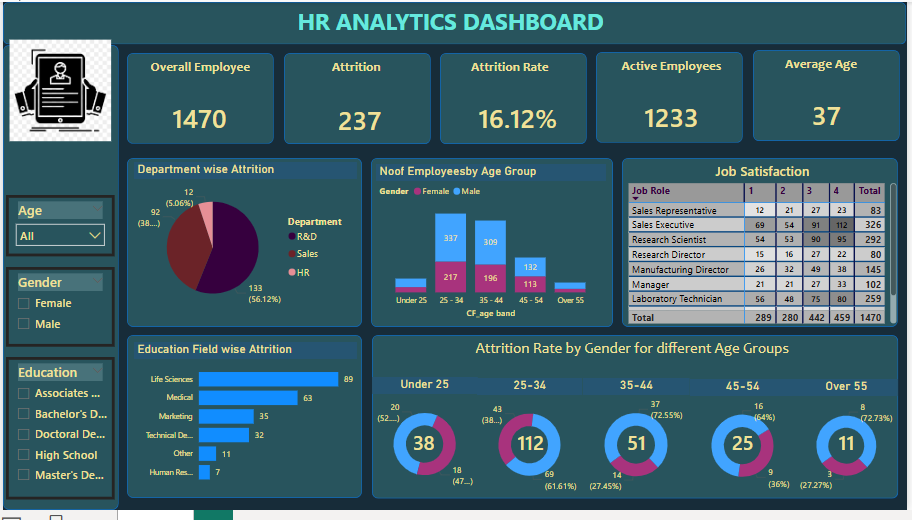

Layout of this report page (visuals, bound fields, positions):
{"tool":"powerbi","page":{"name":"Page 1","canvas":[1280,720],"ordinal":0},"visuals":[{"type":"shape","box":[0,0,1280,60.5],"z":0},{"type":"textbox","box":[413,0,481.8,60.6],"z":1000},{"type":"shape","box":[0,60.9,164.4,659.1],"z":2000},{"type":"shape","box":[175.7,72.3,208.3,129],"z":3000},{"type":"shape","box":[397.8,72.3,208,129],"z":4000},{"type":"shape","box":[619.4,72.3,208,129],"z":5000},{"type":"shape","box":[175.7,221.1,333.1,239.5],"z":8000},{"type":"shape","box":[521.6,221.1,343,239.5],"z":9000},{"type":"shape","box":[877.3,221.1,391.2,239.5],"z":10000},{"type":"shape","box":[175.7,472,333.1,231],"z":11000},{"type":"shape","box":[522.4,472,745.8,231.8],"z":13000},{"type":"slicer","fields":{"Values":["HR data.Education"]},"box":[4.9,503.1,154.1,201.6],"z":17000},{"type":"card","fields":{"Values":["Sum(HR data.Employee Count)"]},"box":[222.5,126.1,112,75.1],"z":18000},{"type":"textbox","box":[175.7,75.1,208.3,62.4],"z":18001},{"type":"textbox","box":[412.4,75.1,192.8,51],"z":18002},{"type":"textbox","box":[618,75.1,208.3,62.4],"z":18003},{"type":"card","fields":{"Values":["Sum(HR data.Attrition Count)"]},"box":[438,131.8,134.6,69.4],"z":18004},{"type":"card","fields":{"Values":["HR data.Attrition Rate"]},"box":[664.7,126.1,130.4,75.1],"z":18005},{"type":"shape","box":[841.1,70.9,208.3,129],"z":18006},{"type":"textbox","box":[843.4,73.8,208.3,62.4],"z":18007},{"type":"card","fields":{"Values":["HR data.Active employees"]},"box":[890.2,124.8,114.8,75.1],"z":18008},{"type":"shape","box":[1063.1,68.1,208,129],"z":18009},{"type":"textbox","box":[1063.1,70.9,208.3,62.4],"z":18010},{"type":"card","fields":{"Values":["Avg(HR data.Age)"]},"box":[1109.8,122,114.8,75.1],"z":18011},{"type":"pieChart","title":"Department wise Attrition","fields":{"Category":["HR data.Department"],"Y":["Sum(HR data.Attrition Count)"]},"box":[185.7,226.8,316.1,223.9],"z":18012},{"type":"columnChart","title":"Noof Employeesby Age  Group","fields":{"Y":["Sum(HR data.Employee Count)"],"Category":["HR data.CF_age band"],"Series":["HR data.Gender"]},"box":[528.7,229.6,326,223.9],"z":18013},{"type":"pivotTable","title":"Job Satisfaction","fields":{"Rows":["HR data.Job Role"],"Columns":["HR data.Job Satisfaction"],"Values":["Sum(HR data.Employee Count)"]},"box":[881.6,226.8,389.8,233.9],"z":18014},{"type":"barChart","title":"Education Field wise Attrition","fields":{"Category":["HR data.Education Field"],"Y":["Sum(HR data.Attrition Count)"]},"box":[185.7,481.9,316.1,211.2],"z":18015},{"type":"donutChart","title":"Under 25","fields":{"Category":["HR data.Gender"],"Y":["Sum(HR data.Attrition Count)"],"Series":["HR data.CF_age band"]},"box":[522.4,530.8,149.5,171.3],"z":18016},{"type":"textbox","box":[665.2,472,502.3,38.6],"z":18017},{"type":"donutChart","title":"25-34","fields":{"Category":["HR data.Gender"],"Y":["Sum(HR data.Attrition Count)"],"Series":["HR data.CF_age band"]},"box":[672,532.7,149.1,170.4],"z":18018},{"type":"donutChart","title":"35-44","fields":{"Category":["HR data.Gender"],"Y":["Sum(HR data.Attrition Count)"],"Series":["HR data.CF_age band"]},"box":[822.7,532.7,150.8,170.4],"z":18019},{"type":"donutChart","title":"45-54","fields":{"Category":["HR data.Gender"],"Y":["Sum(HR data.Attrition Count)"],"Series":["HR data.CF_age band"]},"box":[973.5,534.3,149.1,170.4],"z":18020},{"type":"donutChart","title":"Over 55","fields":{"Category":["HR data.Gender"],"Y":["Sum(HR data.Attrition Count)"],"Series":["HR data.CF_age band"]},"box":[1122.7,534.3,145.9,170.4],"z":18021},{"type":"card","fields":{"Values":["Sum(HR data.Attrition Count)"]},"box":[568.7,604.8,55.7,39.3],"z":18022},{"type":"card","fields":{"Values":["Sum(HR data.Attrition Count)"]},"box":[719.5,604.8,55.7,39.3],"z":18023},{"type":"card","fields":{"Values":["Sum(HR data.Attrition Count)"]},"box":[865.4,604.8,63.9,39.3],"z":18024},{"type":"card","fields":{"Values":["Sum(HR data.Attrition Count)"]},"box":[1021,604.8,55.7,39.3],"z":18025},{"type":"card","fields":{"Values":["Sum(HR data.Attrition Count)"]},"box":[1168.6,604.8,55.7,39.3],"z":18026},{"type":"image","box":[4.9,11.5,154.1,227.8],"z":18027},{"type":"slicer","fields":{"Values":["HR data.Gender"]},"box":[4.9,375.3,154.1,113.1],"z":18028},{"type":"slicer","fields":{"Values":["HR data.Age"]},"box":[4.9,273.7,154.1,86.9],"z":18029}]}

Visuals, with their boxes in screenshot pixels (x1, y1, x2, y2), scaled from the page's 1280x720 canvas onto the 912x520 screenshot:
shape: [x1=0, y1=0, x2=911, y2=44]
textbox: [x1=294, y1=0, x2=638, y2=44]
shape: [x1=0, y1=44, x2=117, y2=519]
shape: [x1=125, y1=52, x2=274, y2=145]
shape: [x1=283, y1=52, x2=432, y2=145]
shape: [x1=441, y1=52, x2=590, y2=145]
shape: [x1=125, y1=160, x2=363, y2=333]
shape: [x1=372, y1=160, x2=616, y2=333]
shape: [x1=625, y1=160, x2=904, y2=333]
shape: [x1=125, y1=341, x2=363, y2=508]
shape: [x1=372, y1=341, x2=904, y2=508]
slicer - HR data.Education: [x1=3, y1=363, x2=113, y2=509]
card - Sum(HR data.Employee Count): [x1=159, y1=91, x2=238, y2=145]
textbox: [x1=125, y1=54, x2=274, y2=99]
textbox: [x1=294, y1=54, x2=431, y2=91]
textbox: [x1=440, y1=54, x2=589, y2=99]
card - Sum(HR data.Attrition Count): [x1=312, y1=95, x2=408, y2=145]
card - HR data.Attrition Rate: [x1=474, y1=91, x2=567, y2=145]
shape: [x1=599, y1=51, x2=748, y2=144]
textbox: [x1=601, y1=53, x2=749, y2=98]
card - HR data.Active employees: [x1=634, y1=90, x2=716, y2=144]
shape: [x1=757, y1=49, x2=906, y2=142]
textbox: [x1=757, y1=51, x2=906, y2=96]
card - Avg(HR data.Age): [x1=791, y1=88, x2=873, y2=142]
"Department wise Attrition" pieChart: [x1=132, y1=164, x2=358, y2=326]
"Noof Employeesby Age  Group" columnChart: [x1=377, y1=166, x2=609, y2=328]
"Job Satisfaction" pivotTable: [x1=628, y1=164, x2=906, y2=333]
"Education Field wise Attrition" barChart: [x1=132, y1=348, x2=358, y2=501]
"Under 25" donutChart: [x1=372, y1=383, x2=479, y2=507]
textbox: [x1=474, y1=341, x2=832, y2=369]
"25-34" donutChart: [x1=479, y1=385, x2=585, y2=508]
"35-44" donutChart: [x1=586, y1=385, x2=694, y2=508]
"45-54" donutChart: [x1=694, y1=386, x2=800, y2=509]
"Over 55" donutChart: [x1=800, y1=386, x2=904, y2=509]
card - Sum(HR data.Attrition Count): [x1=405, y1=437, x2=445, y2=465]
card - Sum(HR data.Attrition Count): [x1=513, y1=437, x2=552, y2=465]
card - Sum(HR data.Attrition Count): [x1=617, y1=437, x2=662, y2=465]
card - Sum(HR data.Attrition Count): [x1=727, y1=437, x2=767, y2=465]
card - Sum(HR data.Attrition Count): [x1=833, y1=437, x2=872, y2=465]
image: [x1=3, y1=8, x2=113, y2=173]
slicer - HR data.Gender: [x1=3, y1=271, x2=113, y2=353]
slicer - HR data.Age: [x1=3, y1=198, x2=113, y2=260]
